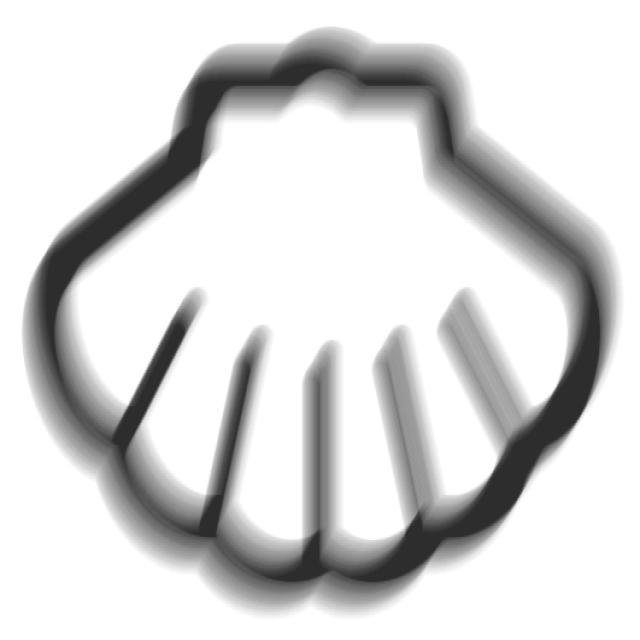shell: (13, 15, 628, 630)
